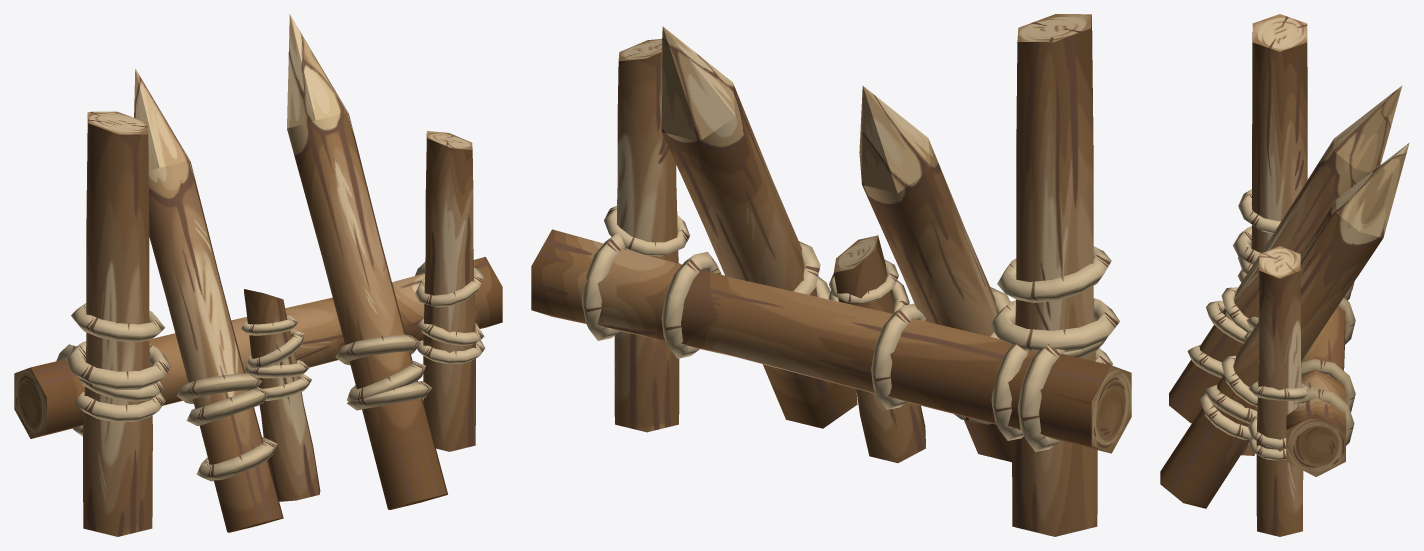
Rendered from muzhalan02.fbx.
3 renders of one model, left to right at view 1: azimuth 30°, elevation 25°; view 2: azimuth 150°, elevation 25°; view 3: azimuth 270°, elevation 25°, orthographic. The views are drawn at different scales.
Visible parts, largest first — view 1: MZL002; view 2: MZL002; view 3: MZL002.
Part boxes in pixels (x1,y1,x2,y2): MZL002: (14,14,502,536); MZL002: (531,14,1131,536); MZL002: (1160,14,1409,536).
Bounding box in the file's own units: 22.83 × 20.12 × 12.28.
1 material, 1 textured.
